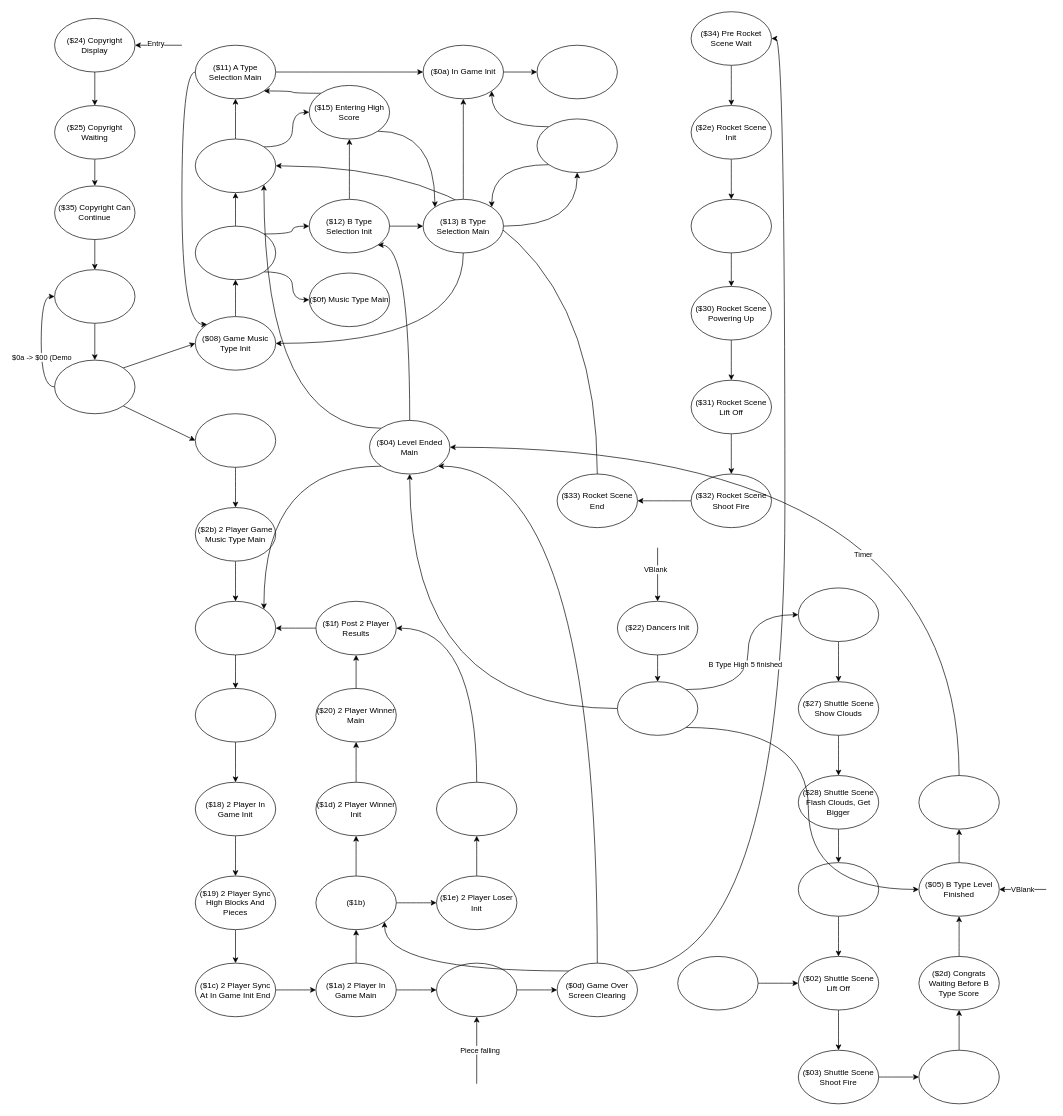
Image size: 1063x1116. Some labels were removed from this diagram. The centre of each missing label's shape, as x and y in pixels:
"($00) In Game Main" belongs at pixel 576 72.
"($01) Game Over Init" belongs at pixel 476 989.
"($06) Title Screen Init" belongs at pixel 94 296.
"($07) Title Screen Main" belongs at pixel 94 386.
"($0b) Score Update After B Type Level Done" belongs at pixel 958 802.
"($0c) Unused Pre Shuttle Lift Off" belongs at pixel 717 983.
"($0e) Game Type Main" belongs at pixel 235 252.
"($10) A Type Selection Init" belongs at pixel 235 165.
"($14) B Type High Main" belongs at pixel 576 145.
"($16) Mario Luigi Screen Init" belongs at pixel 235 628.
"($17) Mario Luigi Screen Main" belongs at pixel 235 715.
"($21) 2 Player Loser Main" belongs at pixel 476 809.
"($23) Dancers Main" belongs at pixel 657 708.
"($26) Shuttle Scene Init" belongs at pixel 838 614.
"($29) Shuttle Scene Flash Big Clouds, Remove Platforms" belongs at pixel 838 889.
"($2a) 2 Player Game Music Type Init" belongs at pixel 235 440.
"($2c) Shuttle Scene Show Congratulations" belongs at pixel 958 1077.
"($2f) Rocket Scene Show Clouds" belongs at pixel 731 226.
